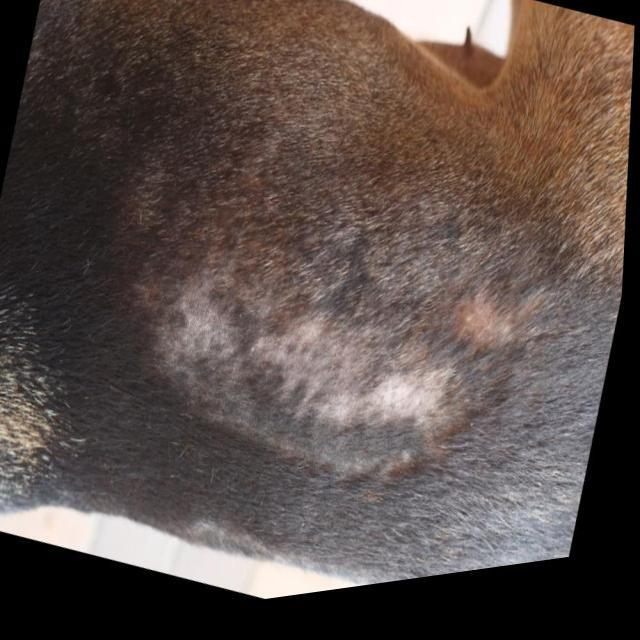mange: (268, 302, 478, 484), (164, 272, 275, 428)
